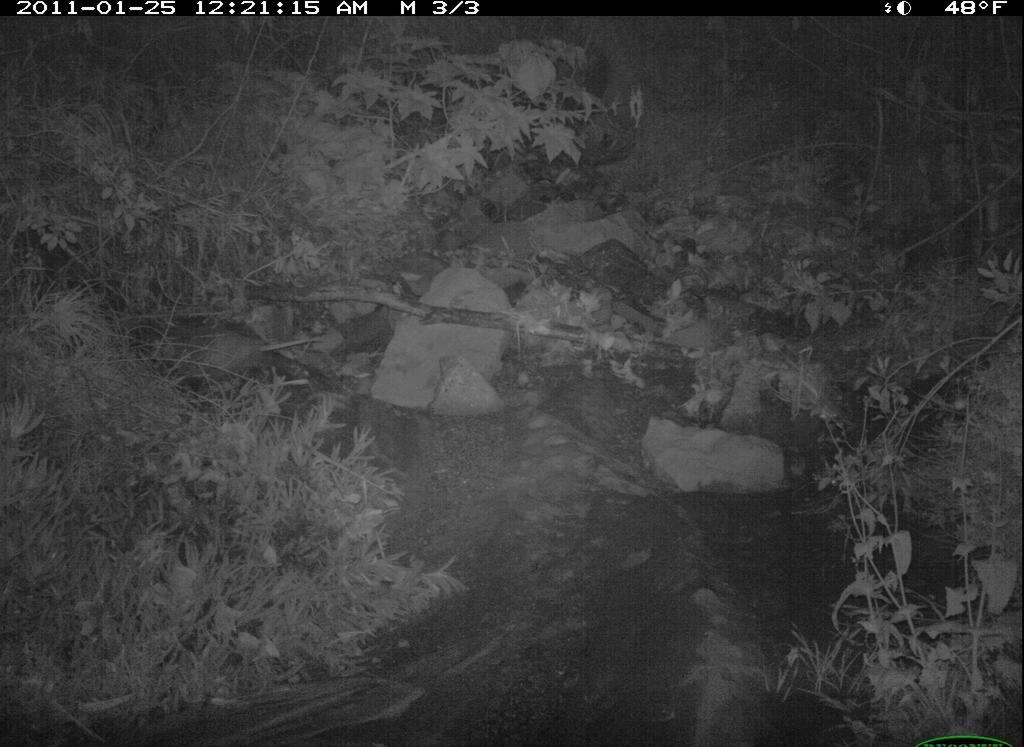opossum: (141, 310, 337, 390)
